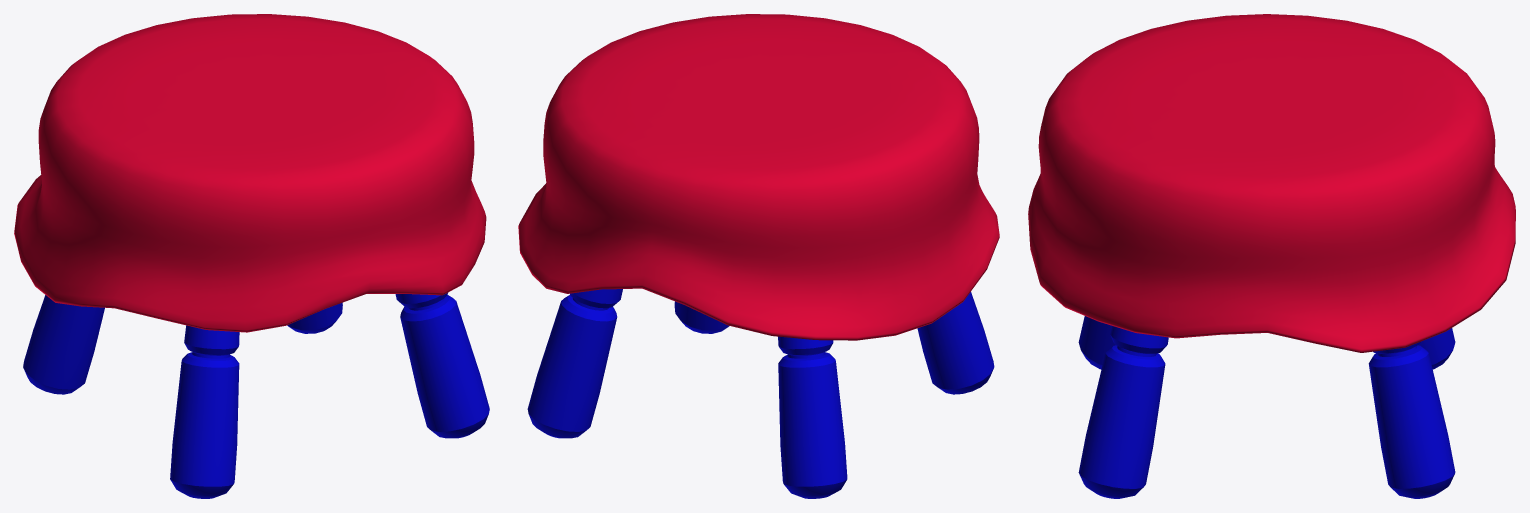
Rendered from Table-2.FBX.
The picture shows the model from 3 angles, left to right: view 1: azimuth 30°, elevation 25°; view 2: azimuth 150°, elevation 25°; view 3: azimuth 270°, elevation 25°; orthographic projection. The views are drawn at different scales.
Parts seen in each view (by area): view 1: Table-2; view 2: Table-2; view 3: Table-2.
Part boxes in pixels (box(x1,y1,x2,y2)): Table-2: box(14, 14, 489, 498); Table-2: box(518, 14, 999, 498); Table-2: box(1028, 14, 1515, 498).
Size of the model in its own units: 998 by 994 by 752.
